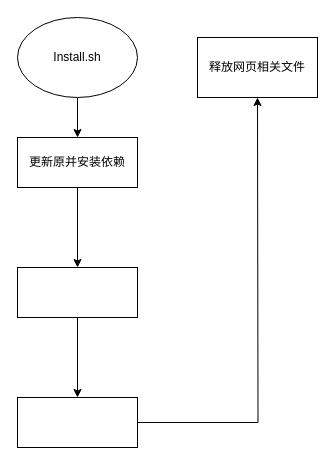
Image size: 335x465. Some labels were removed from this diagram. The shapes that lost their labels are listed below. From the top down, each one's centre as x and y in pixels, then its label:
At point 77,292: "写入ddns ipv6的systemd服务文件和计时器".
At point 77,422: "配置Nginx".
